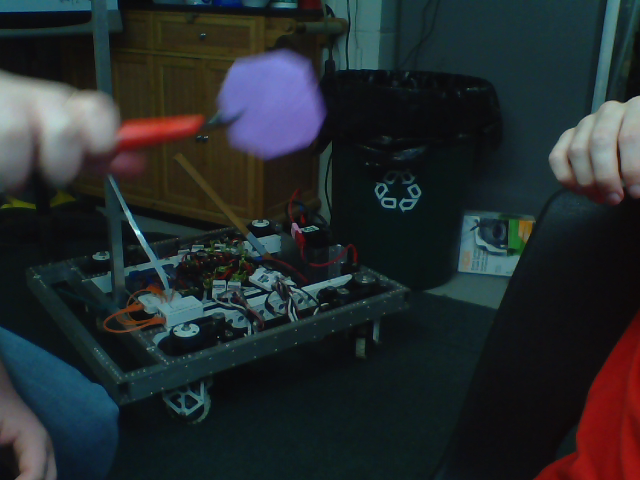ball: (222, 53, 323, 156)
